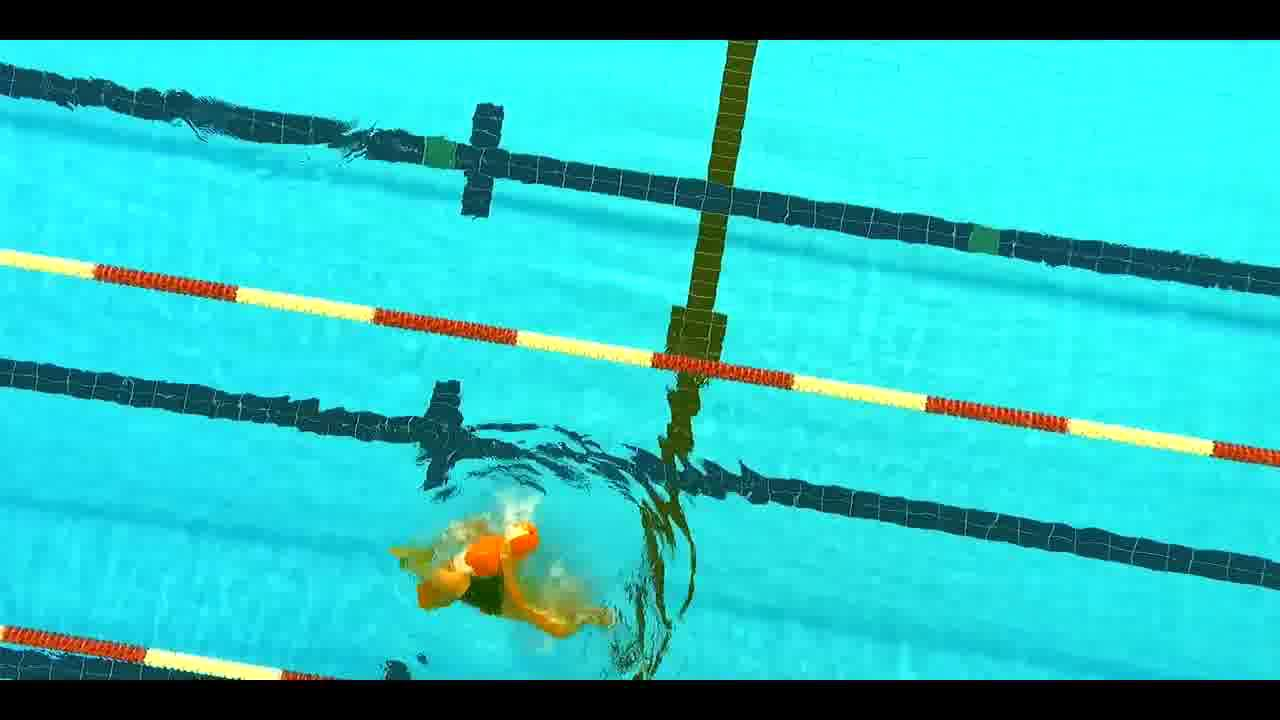swimmer: (406, 502, 634, 658)
